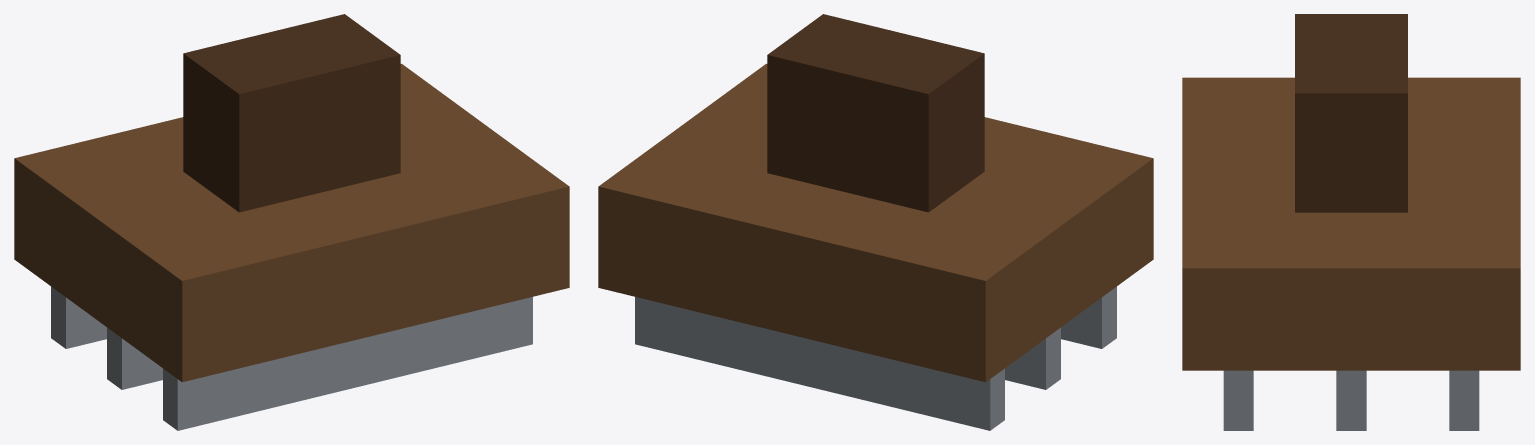
File: curry_comb.glb
The picture shows the model from 3 angles, left to right: view 1: azimuth 30°, elevation 25°; view 2: azimuth 150°, elevation 25°; view 3: azimuth 270°, elevation 25°; orthographic projection.
Parts seen in each view (by area): view 1: object 1, object 2, box (×3); view 2: object 1, object 2, box (×3); view 3: object 1, object 2, box (×3).
Boxes of the visible parts, x1,y1,x2,y2 form: object 1: (14, 63, 569, 382); object 2: (183, 14, 400, 212); box (×3): (51, 286, 532, 430); object 1: (598, 63, 1153, 382); object 2: (767, 14, 984, 212); box (×3): (635, 286, 1116, 430); object 1: (1182, 77, 1520, 370); object 2: (1295, 14, 1407, 212); box (×3): (1223, 370, 1479, 430).
Bounding box in the file's own units: 0.12 × 0.085 × 0.09.
